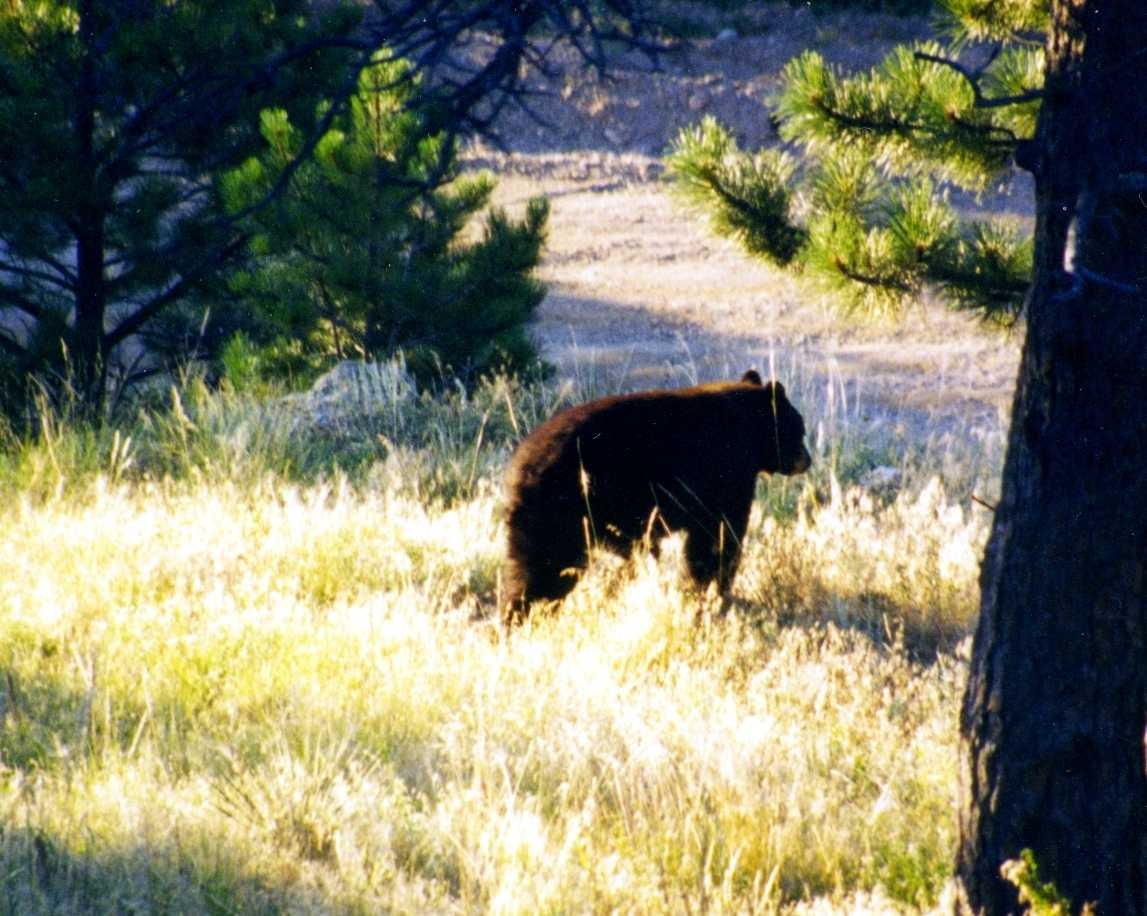bear: (702, 355, 830, 483)
